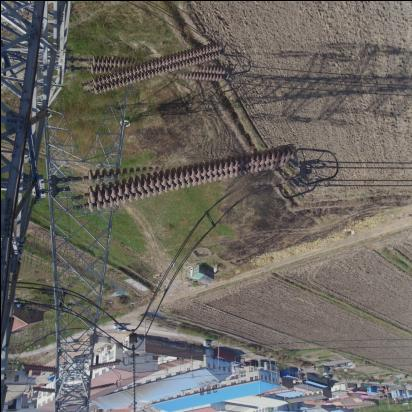insulator: (70, 153, 301, 208), (81, 43, 228, 98)
